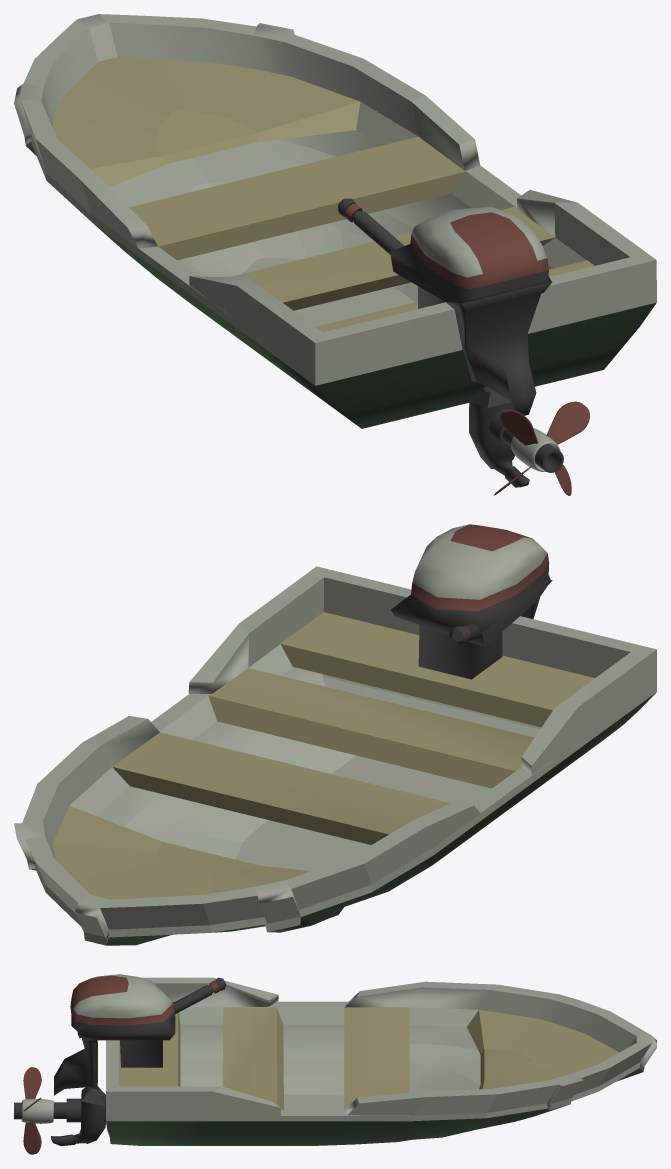
Rendered from boatfbx.fbx.
3 views of the same model, one above another, from view 1: azimuth 30°, elevation 25°; view 2: azimuth 150°, elevation 25°; view 3: azimuth 270°, elevation 25° (orthographic). The views are drawn at different scales.
Visible parts, largest first — view 1: pCube1, pCube2, pCylinder2, pCube3, pCylinder1, pCube4, pTorus1; view 2: pCube1, pCube2; view 3: pCube1, pCube2, pCylinder1, pTorus1, pCylinder2, pCube6, pCube4.
Part boxes in pixels (bbox=[...]): pCube1: bbox=[14, 14, 656, 428]; pCube2: bbox=[390, 206, 552, 487]; pCylinder2: bbox=[338, 198, 404, 254]; pCube3: bbox=[546, 401, 589, 444]; pCylinder1: bbox=[489, 409, 563, 472]; pCube4: bbox=[500, 410, 538, 445]; pTorus1: bbox=[511, 428, 560, 471]; pCube1: bbox=[14, 566, 656, 945]; pCube2: bbox=[391, 524, 552, 679]; pCube1: bbox=[106, 977, 656, 1145]; pCube2: bbox=[51, 974, 175, 1146]; pCylinder1: bbox=[14, 1098, 81, 1122]; pTorus1: bbox=[21, 1099, 53, 1123]; pCylinder2: bbox=[173, 977, 226, 1013]; pCube6: bbox=[23, 1121, 41, 1154]; pCube4: bbox=[23, 1067, 41, 1099].
Size of the model in its own units: 5.11 by 3.33 by 11.99.
